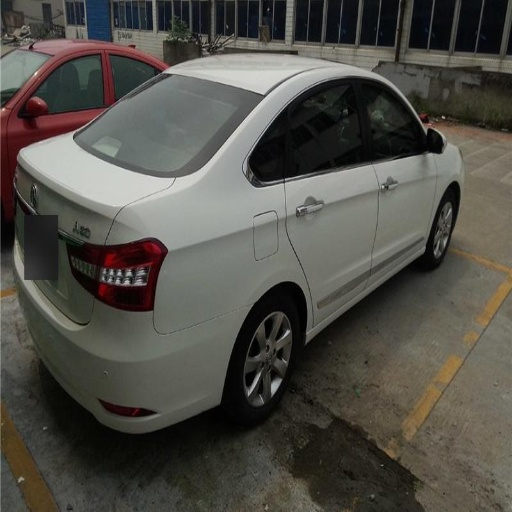back_bumper: (19, 287, 246, 434)
back_glass: (89, 78, 282, 173)
back_left_light: (85, 250, 155, 309)
back_right_door: (266, 76, 379, 310)
tailgate: (24, 155, 157, 321)
trunk: (22, 108, 103, 183), (150, 289, 201, 333)
